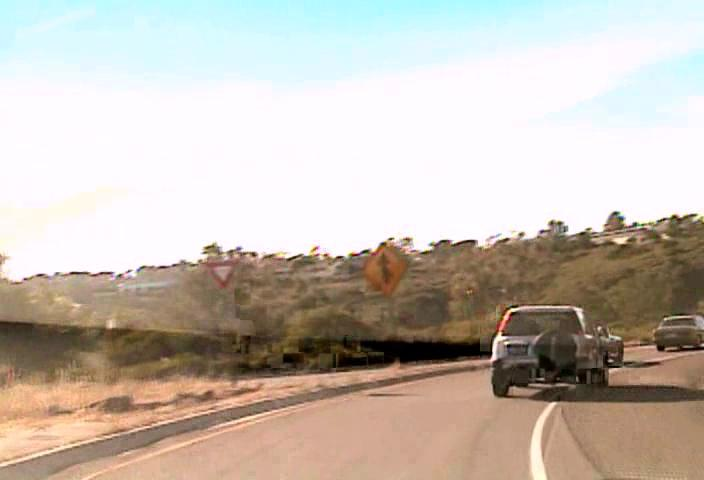yield: (205, 258, 239, 289)
